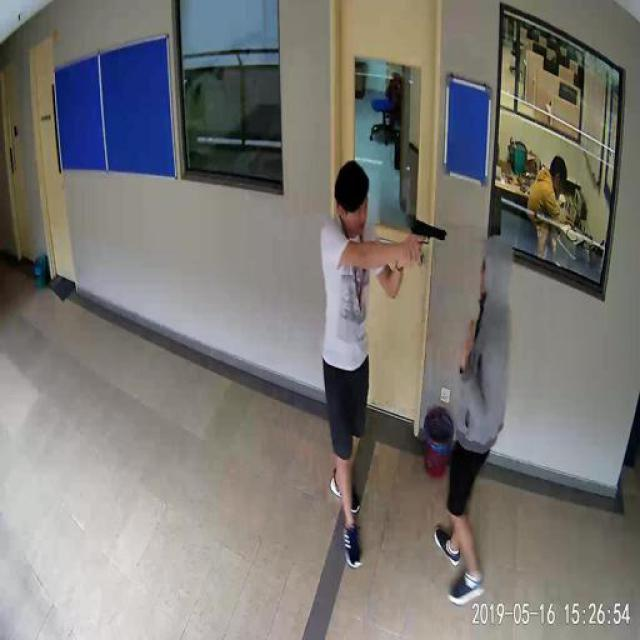weapon: (410, 218, 447, 245)
